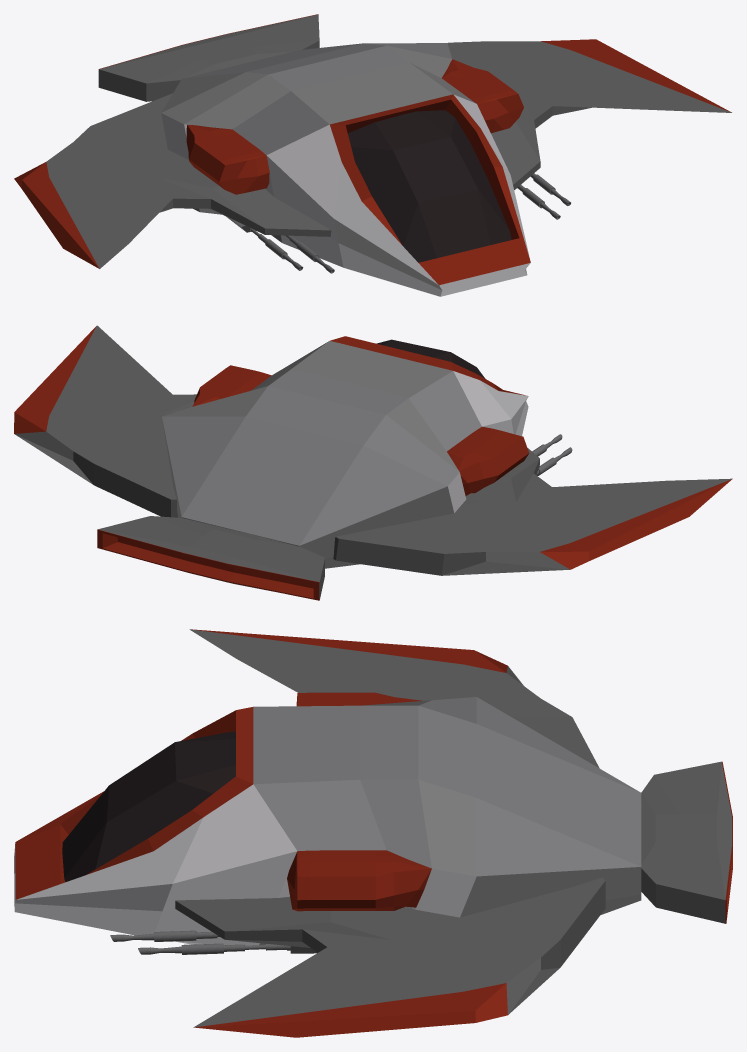
The model's file is enemy ship 2.fbx.
The picture shows the model from 3 angles, top to bottom: view 1: azimuth 30°, elevation 25°; view 2: azimuth 150°, elevation 25°; view 3: azimuth 270°, elevation 25°; orthographic projection. The views are drawn at different scales.
Parts seen in each view (by area): view 1: Mainframe, Wing 2, Window, Wing 1, Back part, Side support 2, Side support; view 2: Mainframe, Wing 2, Wing 1, Back part, Side support 2, Side support, Window; view 3: Mainframe, Wing 1, Wing 2, Back part, Window, Side support, Side support 2, Cannon 2, Cannon.
Boxes of the visible parts, x1,y1,x2,y2 form: Mainframe: (161, 43, 530, 296); Wing 2: (14, 93, 331, 268); Window: (348, 110, 511, 262); Wing 1: (447, 39, 731, 189); Back part: (98, 14, 319, 101); Side support 2: (186, 124, 269, 194); Side support: (442, 59, 523, 133); Mainframe: (162, 336, 528, 568); Wing 2: (333, 448, 732, 575); Wing 1: (14, 325, 196, 517); Back part: (97, 516, 324, 600); Side support 2: (447, 426, 529, 495); Side support: (192, 365, 271, 406); Window: (377, 339, 485, 378); Mainframe: (14, 697, 641, 945); Wing 1: (175, 877, 605, 1037); Wing 2: (189, 629, 599, 768); Back part: (641, 761, 732, 923); Window: (62, 731, 235, 881); Side support: (287, 850, 431, 911); Side support 2: (296, 692, 422, 706); Cannon 2: (138, 943, 290, 954); Cannon: (110, 930, 219, 941).
Size of the model in its own units: 1121 by 219 by 855.
